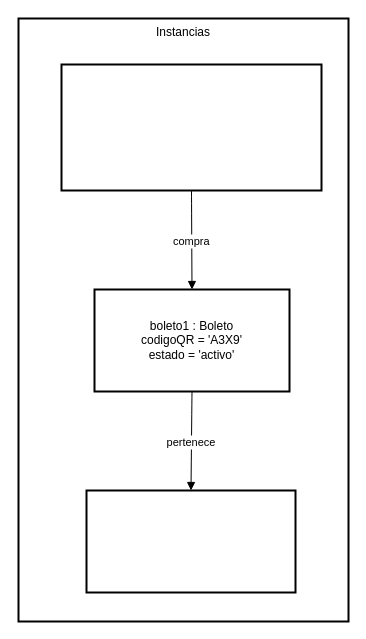
Some shapes in this 366 by 639 pixel diagram are drawn without their labels. Each missing label, with the centre of its shape:
"evento1 : Evento titulo = 'Comic Fest' fecha = '2024-06-15'" belongs at point (190, 541).
"usuario1 : Usuario nombre = 'Carlos' email = 'carlos@email.com'" belongs at point (191, 127).
